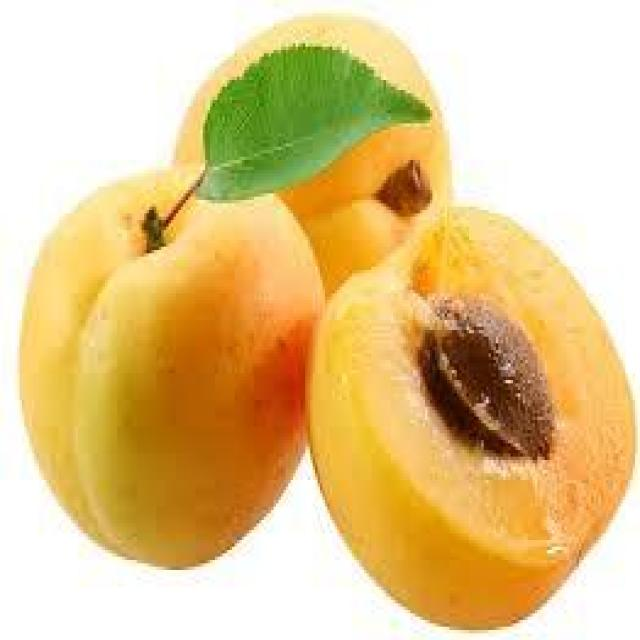cekirdek: (407, 286, 557, 473)
kayisi: (306, 203, 640, 640), (16, 167, 329, 585)
yaprak: (187, 36, 434, 202)
